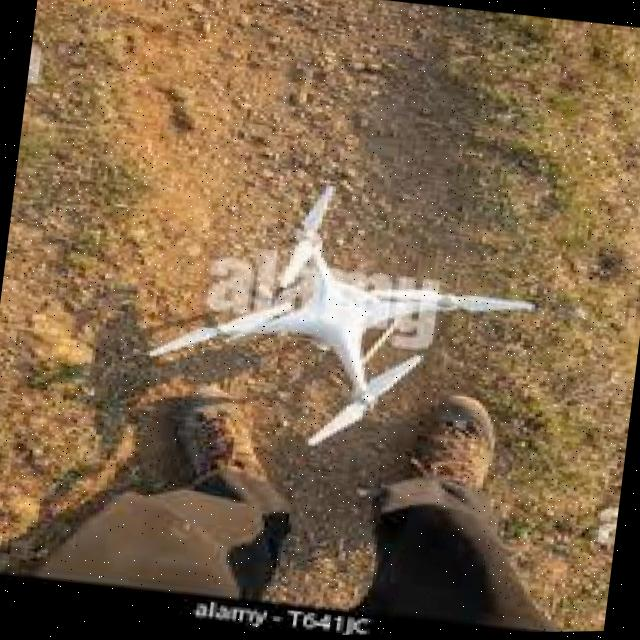drone: (136, 190, 525, 479)
